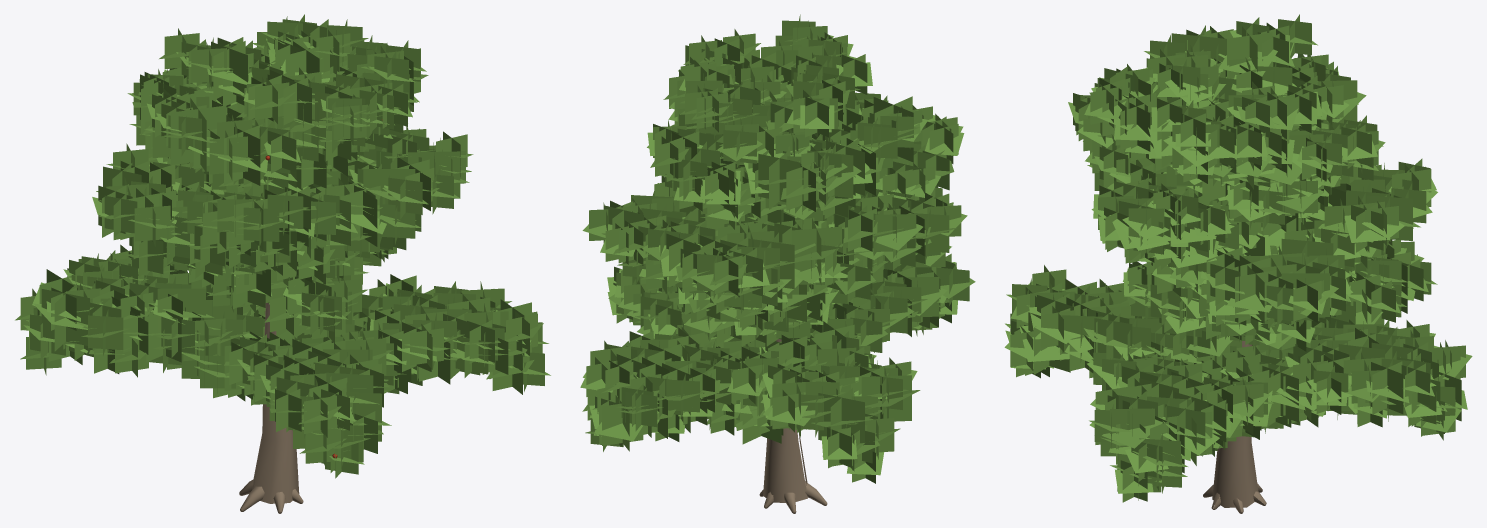
The model's file is pommier_4_f2_jeu.glb.
3 renders of one model, left to right at view 1: azimuth 30°, elevation 25°; view 2: azimuth 150°, elevation 25°; view 3: azimuth 270°, elevation 25°, orthographic. The views are drawn at different scales.
Parts seen in each view (by area): view 1: Pommier_T4_f2_Leger; view 2: Pommier_T4_f2_Leger; view 3: Pommier_T4_f2_Leger.
Boxes of the visible parts, x1,y1,x2,y2 form: Pommier_T4_f2_Leger: (15,14,550,513); Pommier_T4_f2_Leger: (580,14,975,513); Pommier_T4_f2_Leger: (1004,14,1472,513).
Size of the model in its own units: 7.94 by 8.44 by 7.93.
